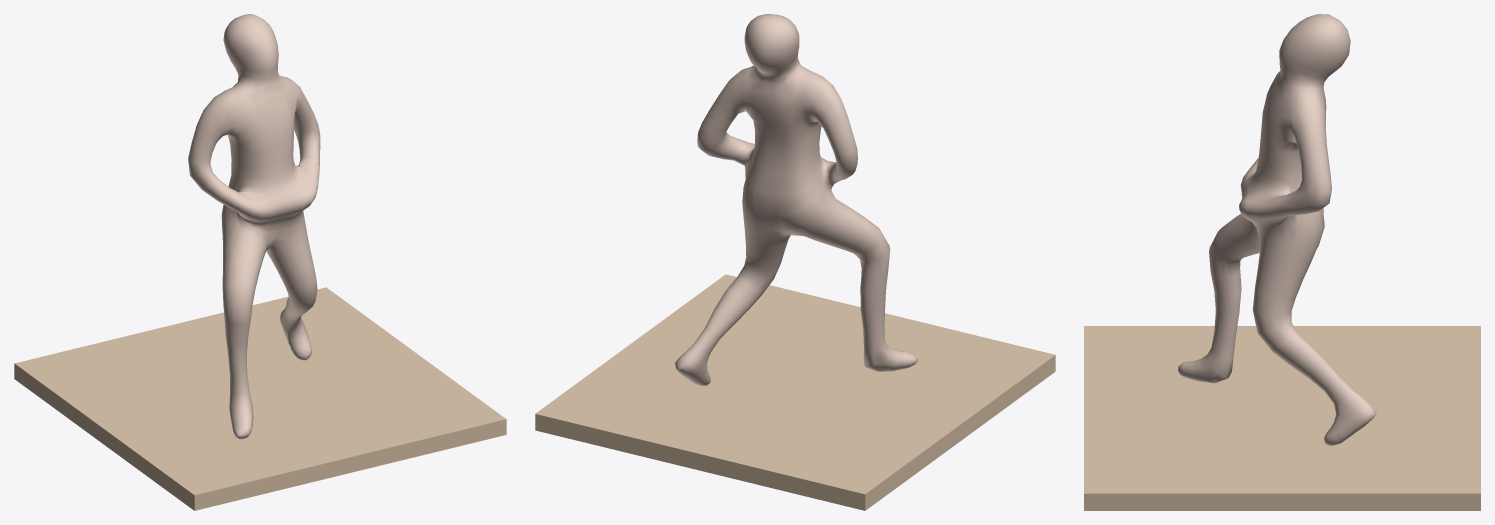
File: gog_andisculpy_mesh.fbx
The picture shows the model from 3 angles, left to right: view 1: azimuth 30°, elevation 25°; view 2: azimuth 150°, elevation 25°; view 3: azimuth 270°, elevation 25°; orthographic projection. The views are drawn at different scales.
Parts seen in each view (by area): view 1: pPipe9; view 2: pPipe9; view 3: pPipe9.
Part boxes in pixels (x1,y1,x2,y2): pPipe9: [14, 14, 506, 510]; pPipe9: [535, 14, 1055, 510]; pPipe9: [1084, 14, 1480, 510].
Bounding box in the file's own units: 32.66 × 37.53 × 32.66.
